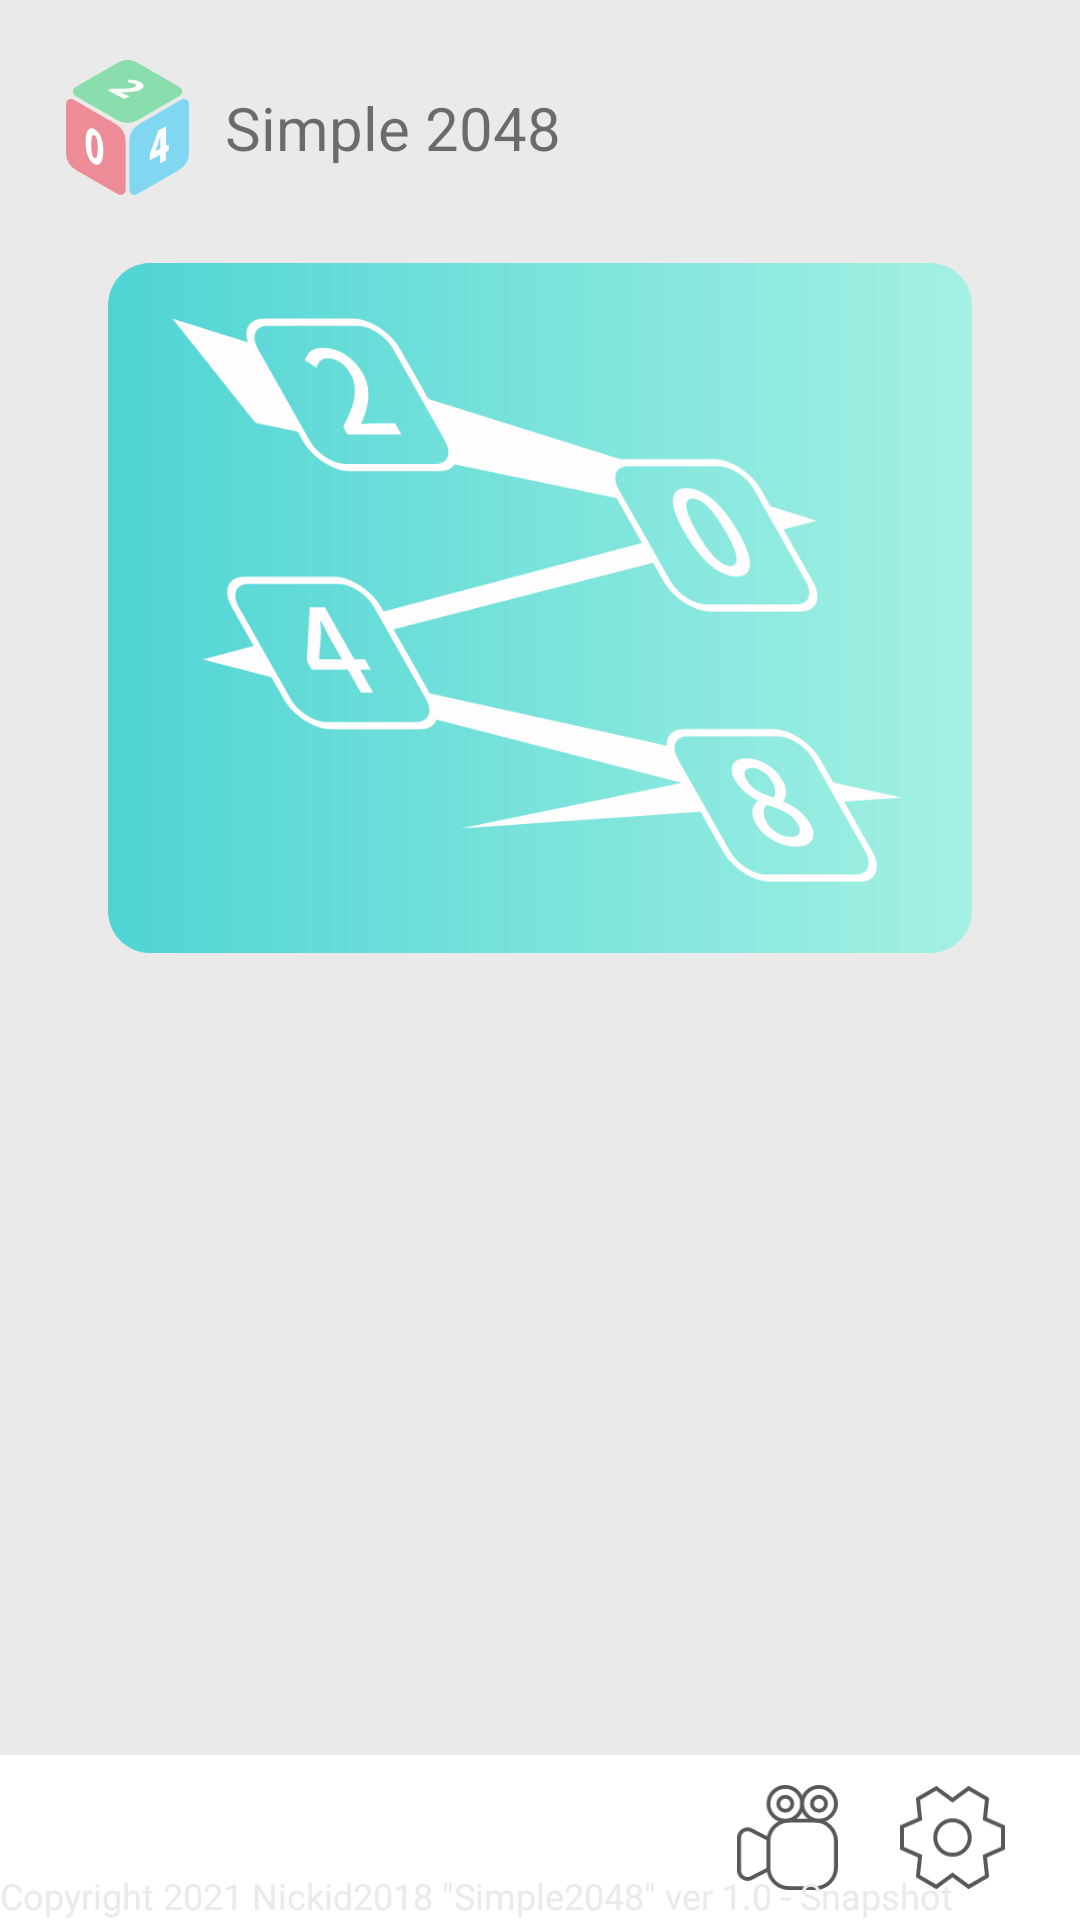

Where to tap for icons on this 1080px x 1920px app screen, as (x=x, y=y):
settings: (x=952, y=1837)
